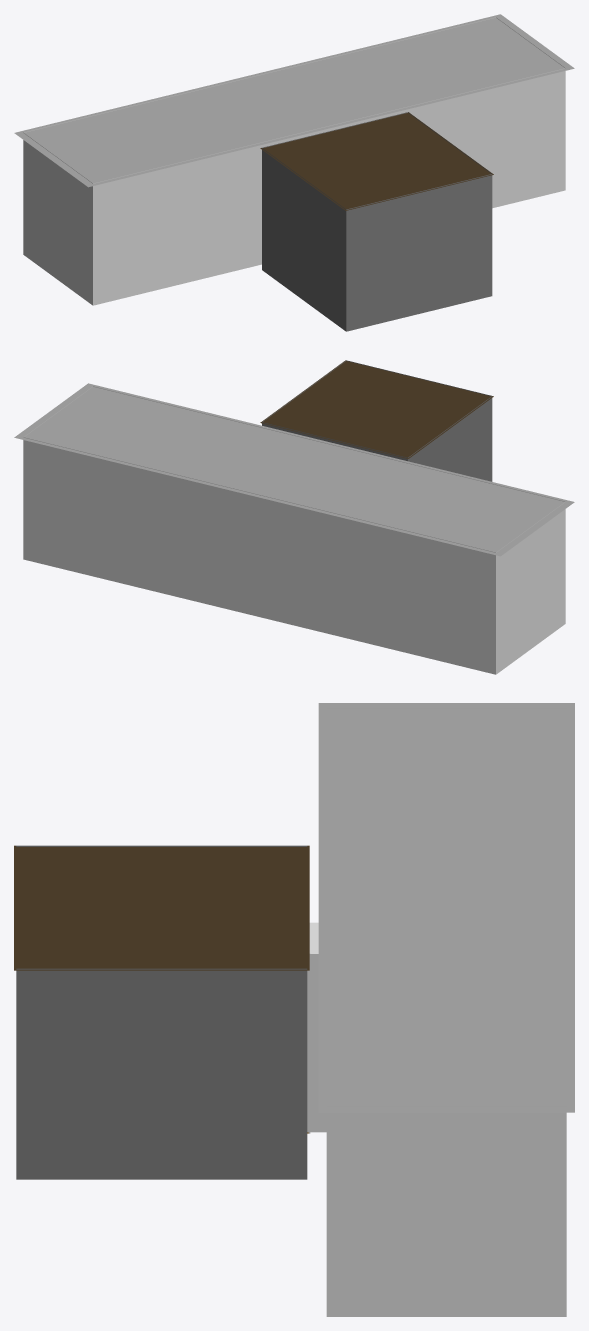
Rendered from Hospital_Room_Test.fbx.
3 renders of one model, top to bottom at view 1: azimuth 30°, elevation 25°; view 2: azimuth 150°, elevation 25°; view 3: azimuth 270°, elevation 25°, orthographic. The views are drawn at different scales.
Visible parts, largest first — view 1: Room_003__Floor_Boards_:Rooms, Room_003__Floor_Boards_:Lab_Ceiling, Room_003__Floor_Boards_:Basement_Ceiling; view 2: Room_003__Floor_Boards_:Rooms, Room_003__Floor_Boards_:Lab_Ceiling, Room_003__Floor_Boards_:Basement_Ceiling; view 3: Room_003__Floor_Boards_:Rooms, Room_003__Floor_Boards_:Lab_Ceiling, Room_003__Floor_Boards_:Basement_Ceiling.
Boxes of the visible parts, box(x1,y1,x2,y2) form: Room_003__Floor_Boards_:Rooms: box(23, 17, 565, 331); Room_003__Floor_Boards_:Lab_Ceiling: box(14, 14, 574, 187); Room_003__Floor_Boards_:Basement_Ceiling: box(260, 112, 493, 210); Room_003__Floor_Boards_:Rooms: box(23, 360, 565, 674); Room_003__Floor_Boards_:Lab_Ceiling: box(14, 383, 574, 556); Room_003__Floor_Boards_:Basement_Ceiling: box(260, 360, 493, 458); Room_003__Floor_Boards_:Rooms: box(16, 708, 566, 1316); Room_003__Floor_Boards_:Lab_Ceiling: box(318, 703, 574, 1112); Room_003__Floor_Boards_:Basement_Ceiling: box(14, 845, 309, 970).
Bounding box in the file's own units: 1000 × 241 × 579.
6 materials, 4 textured.
